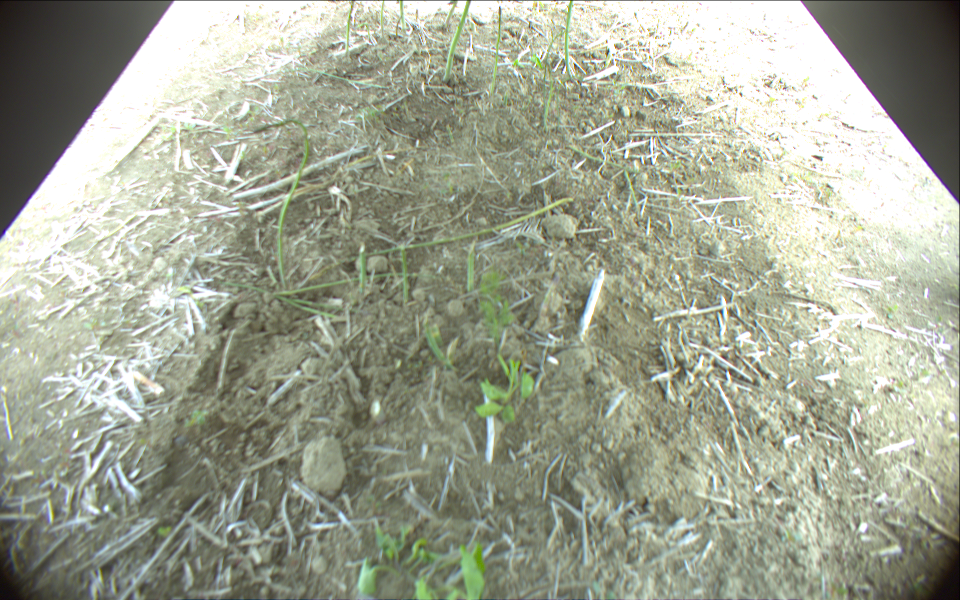aspa: (349, 197, 573, 260), (254, 119, 309, 291), (263, 270, 417, 297), (444, 1, 473, 81), (569, 143, 641, 174), (278, 295, 342, 322), (275, 295, 352, 312), (490, 6, 504, 95), (563, 1, 576, 81), (624, 171, 642, 226), (541, 58, 554, 127), (400, 248, 412, 302), (467, 240, 478, 293), (346, 1, 357, 51), (358, 243, 368, 293), (444, 1, 458, 28), (398, 1, 407, 29), (380, 1, 386, 35), (415, 7, 420, 22)
